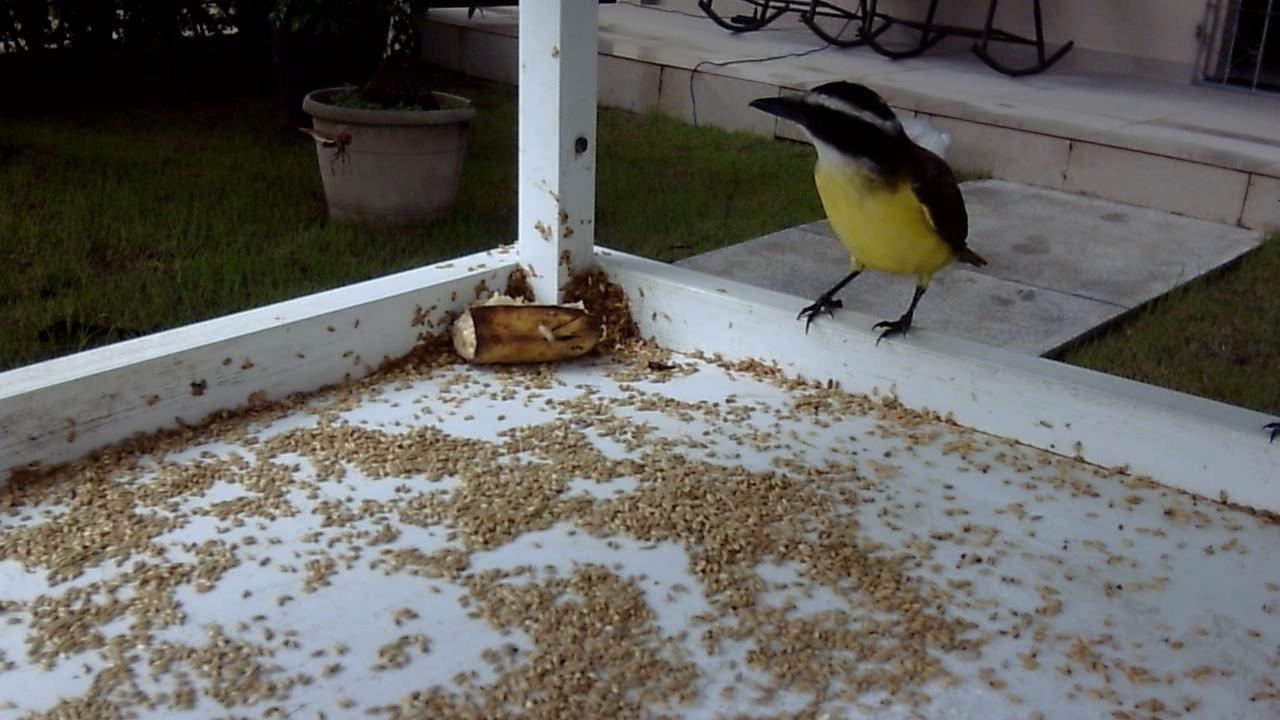bem_te_vi: (737, 70, 991, 359)
